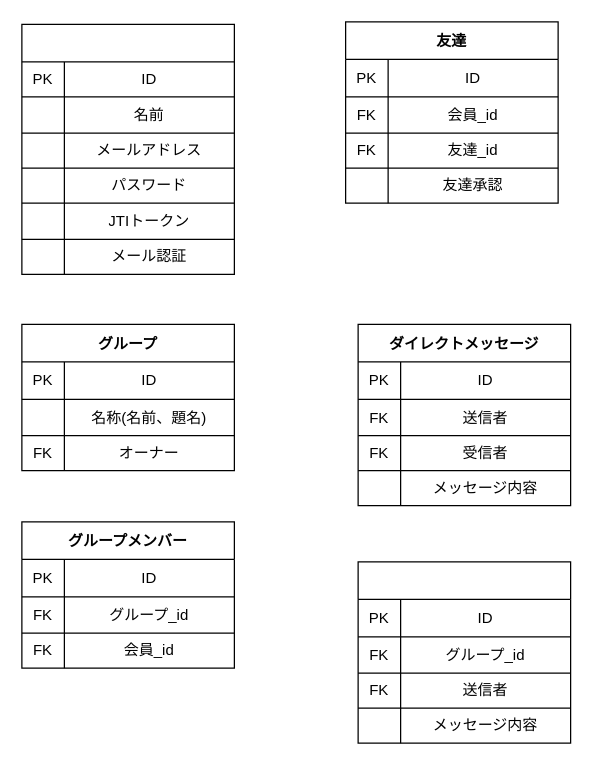
Some shapes in this 593 by 765 pixel diagram are drawn without their labels. The shapes that lost their labels are listed below. From the top down, each one's box as (x1, y1, x2, y2) in pixels, then its label:
(21, 23, 234, 274): 会員
(357, 561, 571, 743): グループメッセージ
